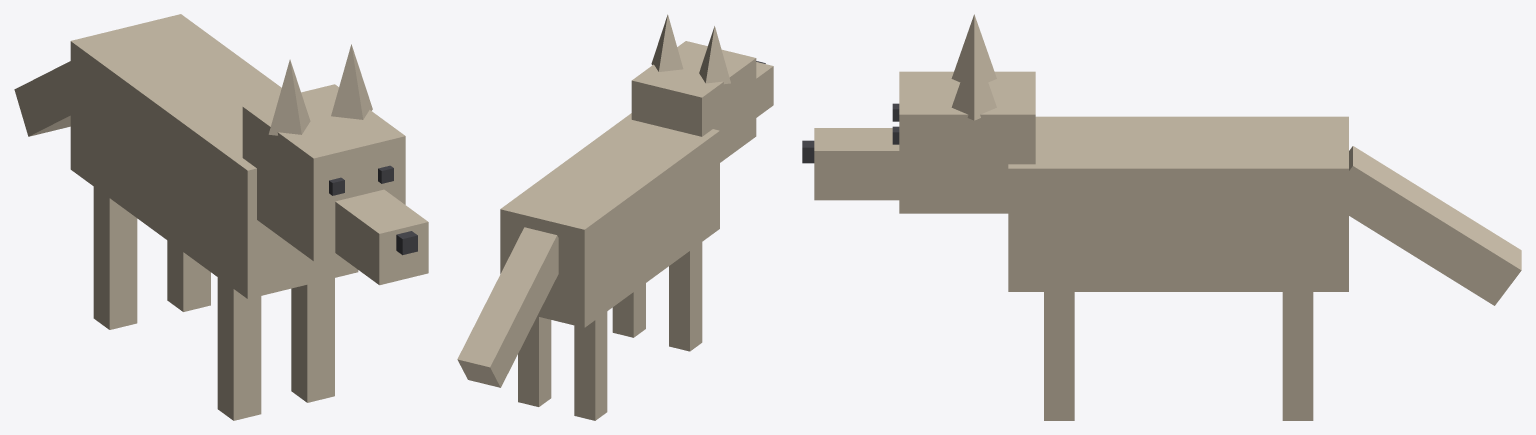
Rendered from coyote.glb.
The picture shows the model from 3 angles, left to right: view 1: azimuth 30°, elevation 25°; view 2: azimuth 150°, elevation 25°; view 3: azimuth 270°, elevation 25°; orthographic projection. The views are drawn at different scales.
Parts seen in each view (by area): view 1: coyote; view 2: coyote; view 3: coyote.
Part boxes in pixels (box(x1,y1,x2,y2)): coyote: box(14, 14, 428, 420); coyote: box(457, 14, 773, 420); coyote: box(802, 14, 1521, 420).
Bounding box in the file's own units: 0.36 × 1.2 × 2.11.
